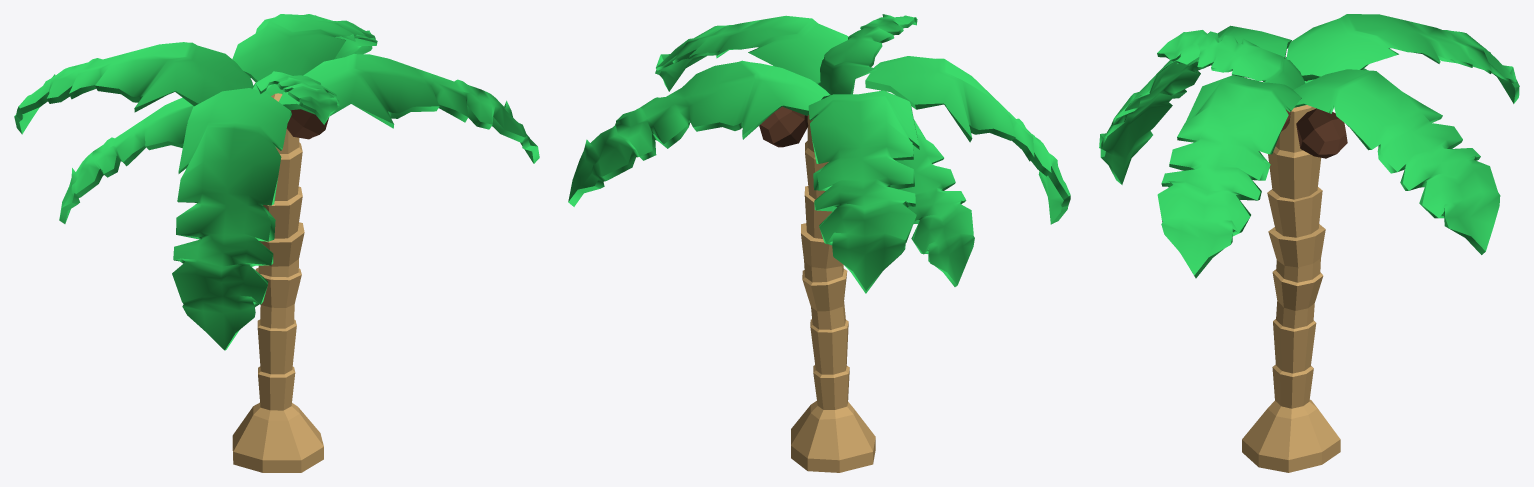
File: tree_palm.glb
3 renders of one model, left to right at view 1: azimuth 30°, elevation 25°; view 2: azimuth 150°, elevation 25°; view 3: azimuth 270°, elevation 25°, orthographic.
Visible parts, largest first — view 1: Tronco; view 2: Tronco; view 3: Tronco.
Boxes of the visible parts, bbox=[...] form: Tronco: bbox=[14, 14, 539, 472]; Tronco: bbox=[568, 14, 1070, 472]; Tronco: bbox=[1099, 14, 1519, 472].
Size of the model in its own units: 3.82 by 3.81 by 3.55.
